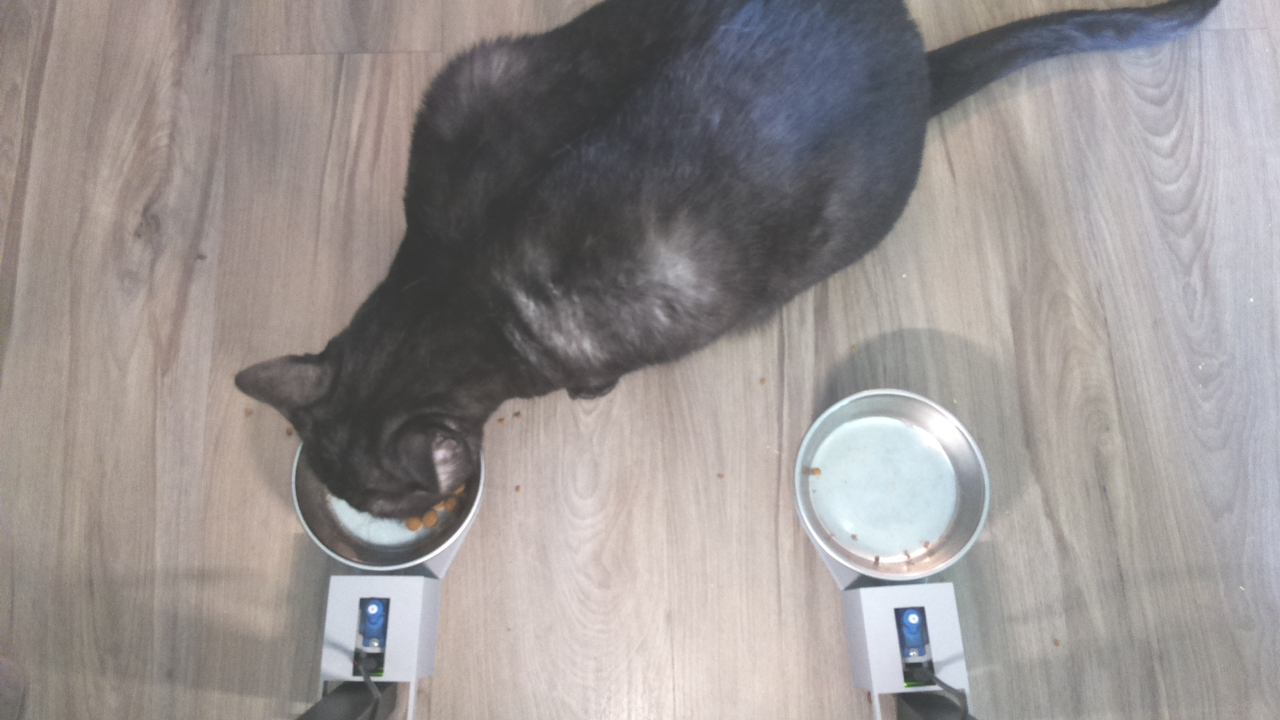open_bowl: (787, 383, 993, 583)
saki_eating: (234, 298, 505, 580)
